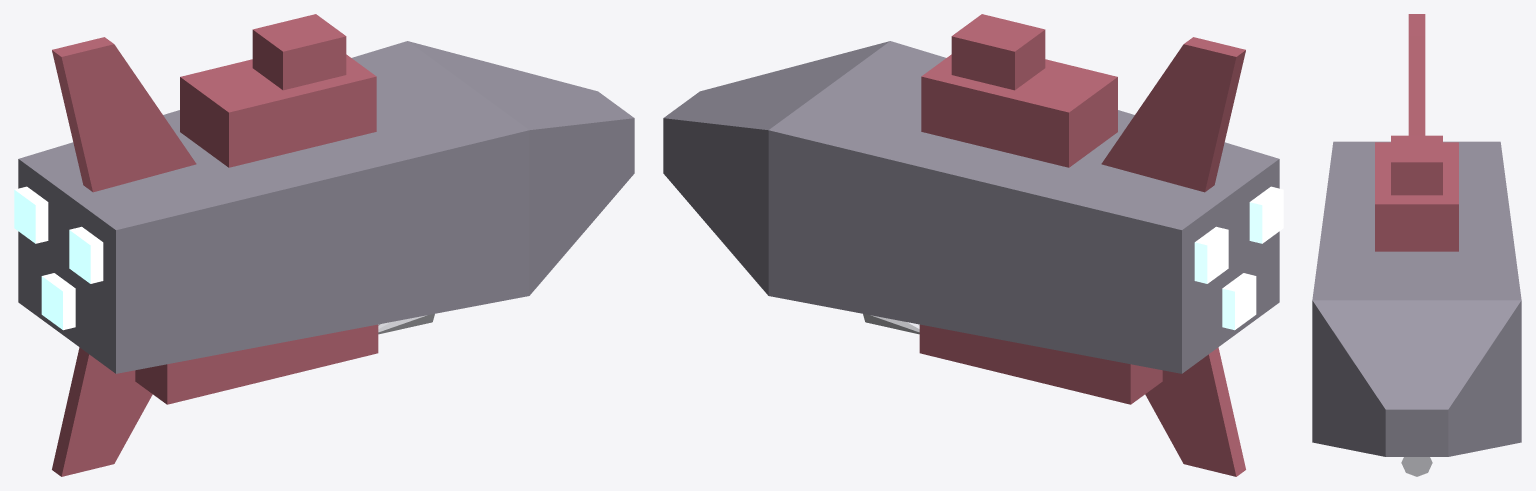
Rendered from boss_cruiser.glb.
3 renders of one model, left to right at view 1: azimuth 30°, elevation 25°; view 2: azimuth 150°, elevation 25°; view 3: azimuth 270°, elevation 25°, orthographic. The views are drawn at different scales.
Visible parts, largest first — view 1: boss_cruiser; view 2: boss_cruiser; view 3: boss_cruiser.
Boxes of the visible parts, left/top/right/bottom form: boss_cruiser: left=14, top=14, right=634, bottom=476; boss_cruiser: left=663, top=14, right=1283, bottom=476; boss_cruiser: left=1312, top=14, right=1521, bottom=476.
Size of the model in its own units: 5.34 by 3.8 by 2.
